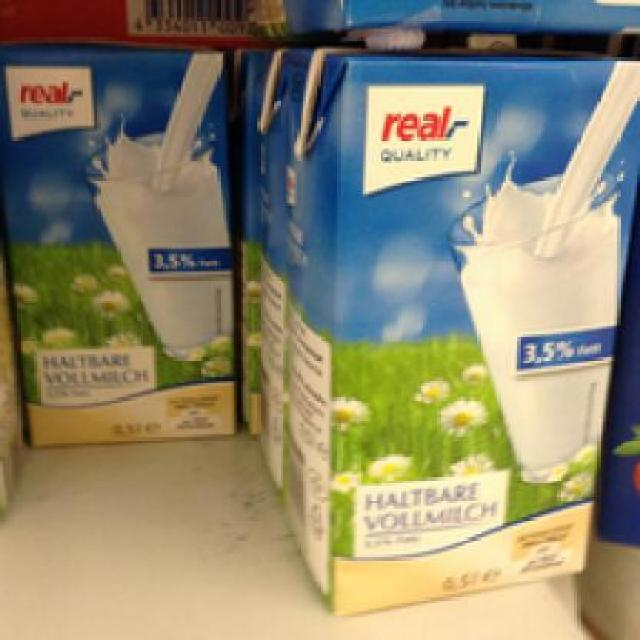Milk: (282, 37, 638, 617), (0, 43, 240, 443)
